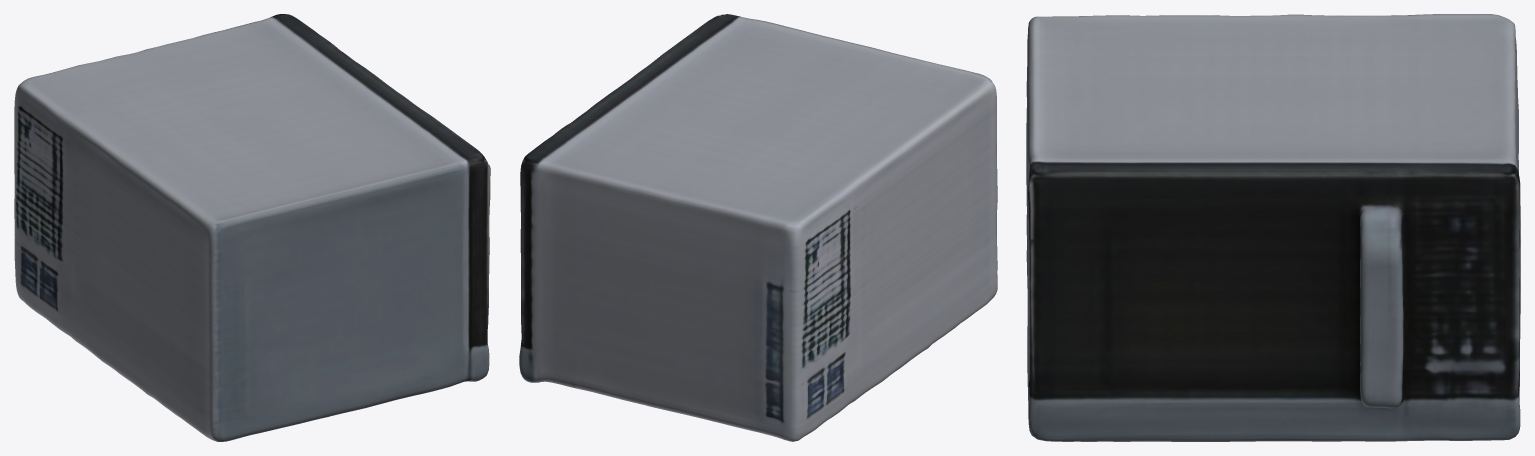
The model's file is fa4786891bfe_Microwave__3d_asset.fbx.
3 views of the same model, side by side, from view 1: azimuth 30°, elevation 25°; view 2: azimuth 150°, elevation 25°; view 3: azimuth 270°, elevation 25° (orthographic). The views are drawn at different scales.
Parts seen in each view (by area): view 1: mesh; view 2: mesh; view 3: mesh.
Part boxes in pixels (bbox=[...]): mesh: bbox=[14, 14, 490, 441]; mesh: bbox=[519, 14, 997, 441]; mesh: bbox=[1026, 14, 1520, 441].
Size of the model in its own units: 86.58 by 60.75 by 99.94.
